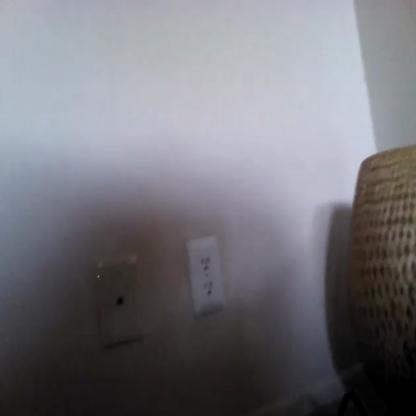OUTLET: (187, 237, 225, 315)
